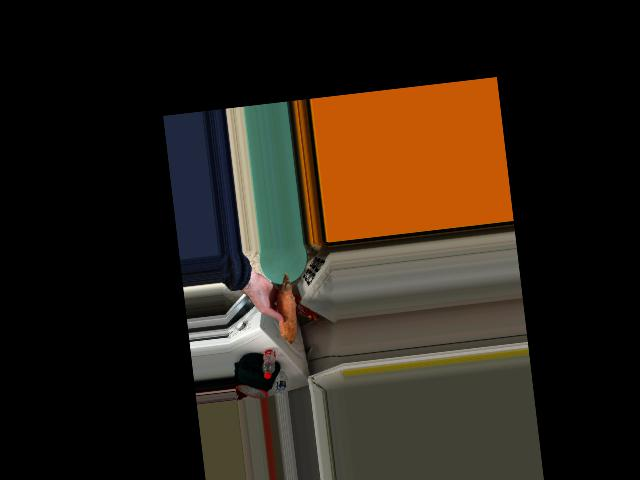sweet_potato: (271, 278, 298, 337)
